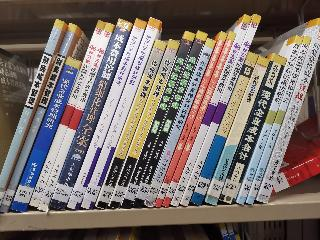book-spine: (178, 13, 262, 207), (64, 18, 147, 214), (50, 19, 133, 210), (80, 18, 162, 210), (171, 14, 251, 208), (0, 21, 79, 215), (37, 22, 116, 212), (29, 19, 107, 210), (120, 30, 197, 212), (161, 29, 236, 209), (134, 30, 209, 209), (90, 39, 167, 211), (155, 32, 228, 208), (106, 38, 181, 209), (0, 18, 67, 203), (232, 34, 304, 205), (257, 17, 320, 204), (10, 56, 82, 215), (189, 50, 261, 208), (245, 35, 310, 206), (218, 53, 288, 207), (204, 54, 271, 208), (169, 38, 217, 149)
